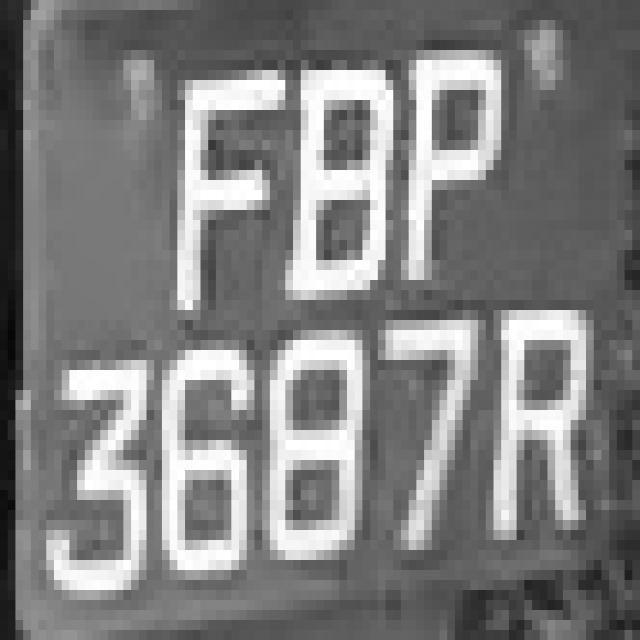3: (31, 330, 154, 620)
6: (146, 310, 270, 620)
7: (354, 270, 494, 590)
8: (247, 330, 378, 580)
B: (278, 60, 401, 320)
F: (147, 40, 286, 320)
P: (401, 50, 517, 290)
R: (486, 280, 594, 560)
